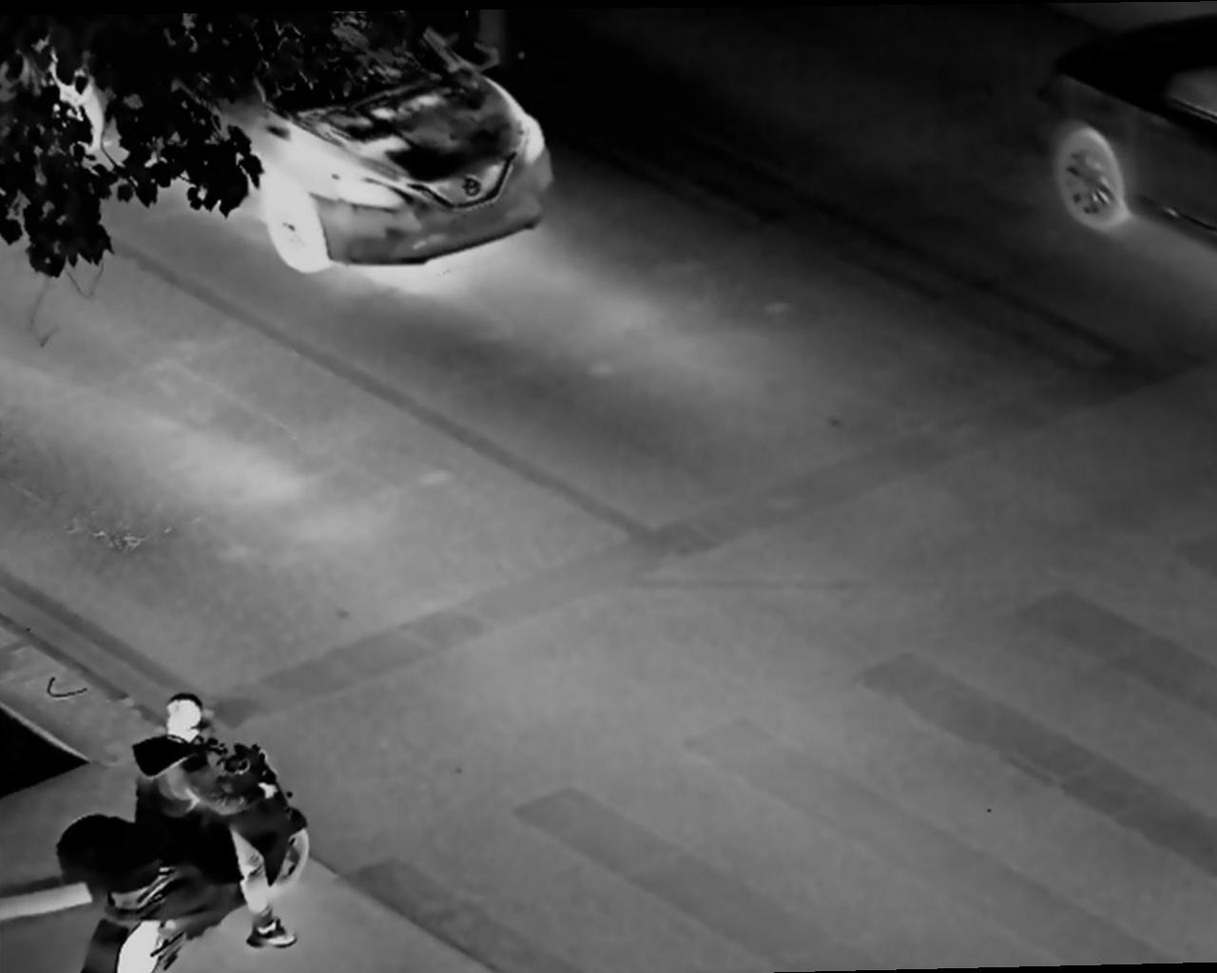person: (134, 698, 310, 958)
